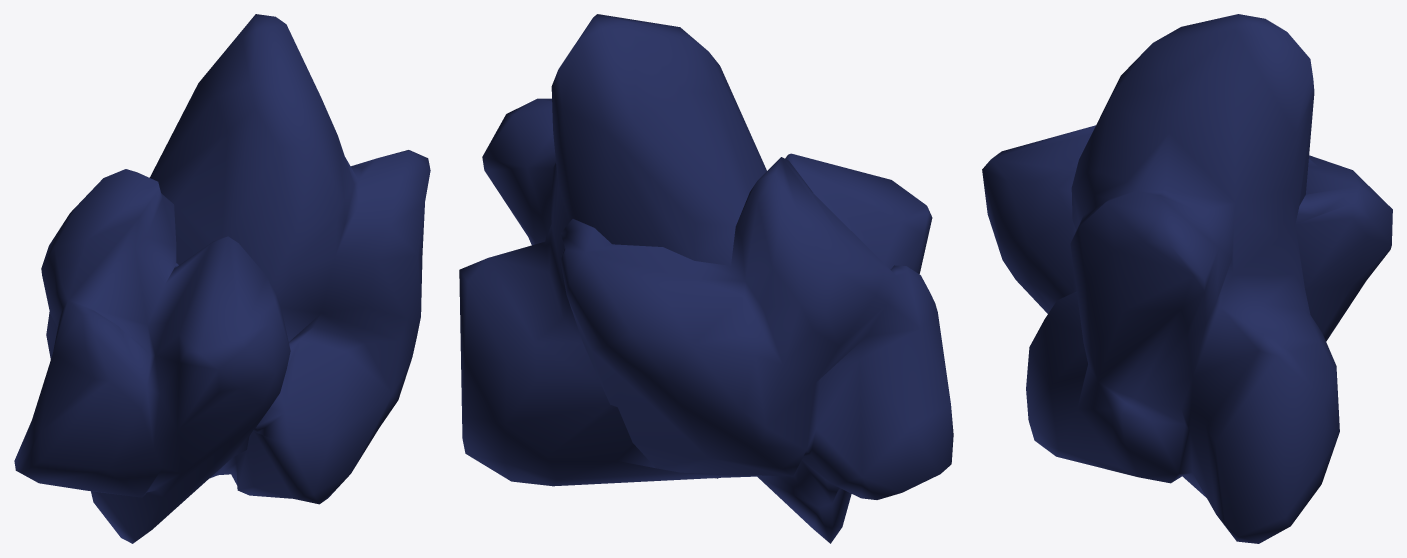
Rendered from M_RockStack_01.fbx.
3 views of the same model, side by side, from view 1: azimuth 30°, elevation 25°; view 2: azimuth 150°, elevation 25°; view 3: azimuth 270°, elevation 25° (orthographic). The views are drawn at different scales.
Parts seen in each view (by area): view 1: rockstack_01; view 2: rockstack_01; view 3: rockstack_01.
Part boxes in pixels (x1,y1,x2,y2): rockstack_01: (14, 14, 430, 543); rockstack_01: (459, 14, 953, 543); rockstack_01: (982, 14, 1392, 543).
Size of the model in its own units: 20.28 by 21.51 by 15.88.
